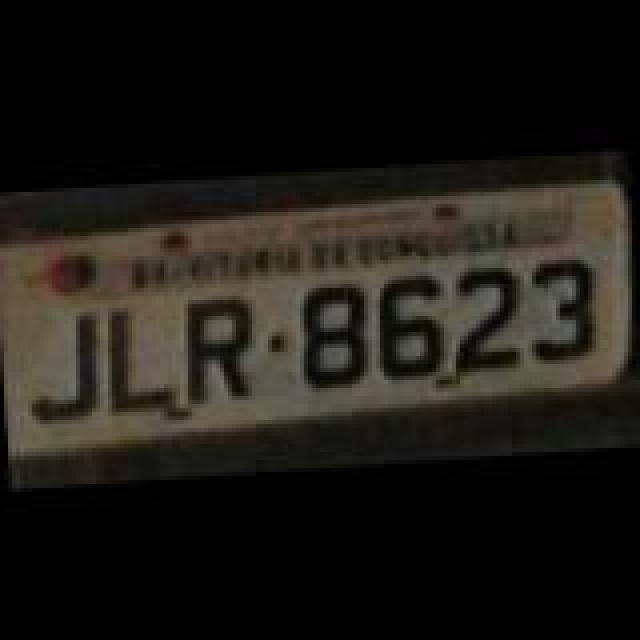2: (448, 258, 528, 374)
3: (520, 246, 600, 370)
6: (368, 262, 448, 378)
8: (298, 272, 374, 392)
J: (26, 308, 102, 428)
L: (104, 300, 184, 420)
R: (178, 290, 262, 414)
